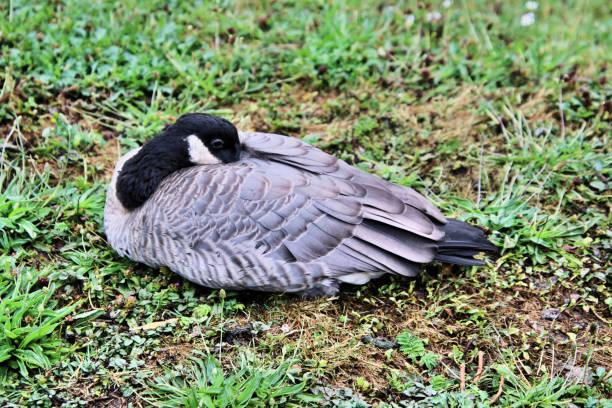Canadian-Goose: (103, 113, 493, 291)
